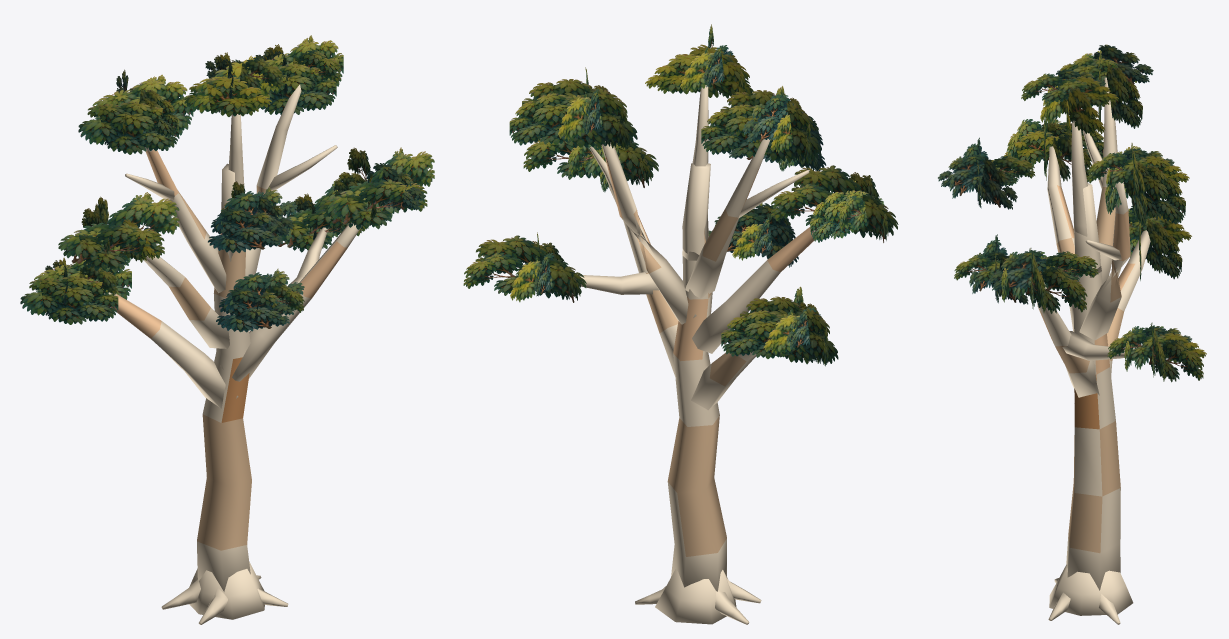
File: TREE_EUCALYPTUS_001_v007_LOD_MAP.glb
3 views of the same model, side by side, from view 1: azimuth 30°, elevation 25°; view 2: azimuth 150°, elevation 25°; view 3: azimuth 270°, elevation 25° (orthographic). The views are drawn at different scales.
Visible parts, largest first — view 1: TREE_EUCALYPTUS_001_MAP_AUTHORED_FOLIAGE_ISLANDS, TREE_EUCALYPTUS_001_MAP_MAIN_TRUNK, TREE_EUCALYPTUS_001_MAP_LOWER_LEFT_SWEEP, TREE_EUCALYPTUS_001_MAP_MID_RIGHT_SWEEP, TREE_EUCALYPTUS_001_MAP_UPPER_LEFT_FORK, TREE_EUCALYPTUS_001_MAP_MID_LEFT_ARCH, TREE_EUCALYPTUS_001_MAP_SCULPTED_ROOT_COLLAR, TREE_EUCALYPTUS_001_MAP_UPPER_RIGHT_ARCH, TREE_EUCALYPTUS_001_MAP_CENTRAL_CROWN_FORK, TREE_EUCALYPTUS_001_MAP_RIGHT_TOP_SUPPORT, TREE_EUCALYPTUS_001_MAP_LOWER_RIGHT_REACH; view 2: TREE_EUCALYPTUS_001_MAP_AUTHORED_FOLIAGE_ISLANDS, TREE_EUCALYPTUS_001_MAP_MAIN_TRUNK, TREE_EUCALYPTUS_001_MAP_MID_LEFT_ARCH, TREE_EUCALYPTUS_001_MAP_UPPER_RIGHT_ARCH, TREE_EUCALYPTUS_001_MAP_UPPER_LEFT_FORK, TREE_EUCALYPTUS_001_MAP_SCULPTED_ROOT_COLLAR, TREE_EUCALYPTUS_001_MAP_LOWER_LEFT_SWEEP, TREE_EUCALYPTUS_001_MAP_MID_RIGHT_SWEEP, TREE_EUCALYPTUS_001_MAP_LOWER_RIGHT_REACH, TREE_EUCALYPTUS_001_MAP_CENTRAL_CROWN_FORK, TREE_EUCALYPTUS_001_MAP_LEFT_TOP_SUPPORT; view 3: TREE_EUCALYPTUS_001_MAP_AUTHORED_FOLIAGE_ISLANDS, TREE_EUCALYPTUS_001_MAP_MAIN_TRUNK, TREE_EUCALYPTUS_001_MAP_UPPER_RIGHT_ARCH, TREE_EUCALYPTUS_001_MAP_SCULPTED_ROOT_COLLAR, TREE_EUCALYPTUS_001_MAP_MID_RIGHT_SWEEP, TREE_EUCALYPTUS_001_MAP_UPPER_LEFT_FORK, TREE_EUCALYPTUS_001_MAP_MID_LEFT_ARCH, TREE_EUCALYPTUS_001_MAP_LOWER_LEFT_SWEEP, TREE_EUCALYPTUS_001_MAP_CENTRAL_CROWN_FORK, TREE_EUCALYPTUS_001_MAP_LOWER_RIGHT_REACH.
Boxes of the visible parts, x1,y1,x2,y2 form: TREE_EUCALYPTUS_001_MAP_AUTHORED_FOLIAGE_ISLANDS: (20,35,434,332); TREE_EUCALYPTUS_001_MAP_MAIN_TRUNK: (197,163,251,591); TREE_EUCALYPTUS_001_MAP_LOWER_LEFT_SWEEP: (104,292,238,408); TREE_EUCALYPTUS_001_MAP_MID_RIGHT_SWEEP: (220,222,362,381); TREE_EUCALYPTUS_001_MAP_UPPER_LEFT_FORK: (145,147,226,293); TREE_EUCALYPTUS_001_MAP_MID_LEFT_ARCH: (144,256,229,348); TREE_EUCALYPTUS_001_MAP_SCULPTED_ROOT_COLLAR: (189,562,264,619); TREE_EUCALYPTUS_001_MAP_UPPER_RIGHT_ARCH: (245,84,301,276); TREE_EUCALYPTUS_001_MAP_CENTRAL_CROWN_FORK: (227,114,244,261); TREE_EUCALYPTUS_001_MAP_RIGHT_TOP_SUPPORT: (267,145,337,190); TREE_EUCALYPTUS_001_MAP_LOWER_RIGHT_REACH: (288,227,328,285); TREE_EUCALYPTUS_001_MAP_AUTHORED_FOLIAGE_ISLANDS: (463,24,898,366); TREE_EUCALYPTUS_001_MAP_MAIN_TRUNK: (667,163,726,591); TREE_EUCALYPTUS_001_MAP_MID_LEFT_ARCH: (692,227,815,353); TREE_EUCALYPTUS_001_MAP_UPPER_RIGHT_ARCH: (601,141,696,324); TREE_EUCALYPTUS_001_MAP_UPPER_LEFT_FORK: (685,138,770,298); TREE_EUCALYPTUS_001_MAP_SCULPTED_ROOT_COLLAR: (655,569,736,624); TREE_EUCALYPTUS_001_MAP_LOWER_LEFT_SWEEP: (691,351,756,410); TREE_EUCALYPTUS_001_MAP_MID_RIGHT_SWEEP: (608,185,707,379); TREE_EUCALYPTUS_001_MAP_LOWER_RIGHT_REACH: (577,272,658,294); TREE_EUCALYPTUS_001_MAP_CENTRAL_CROWN_FORK: (682,85,708,260); TREE_EUCALYPTUS_001_MAP_LEFT_TOP_SUPPORT: (738,170,809,218); TREE_EUCALYPTUS_001_MAP_AUTHORED_FOLIAGE_ISLANDS: (938,44,1206,382); TREE_EUCALYPTUS_001_MAP_MAIN_TRUNK: (1066,183,1120,590); TREE_EUCALYPTUS_001_MAP_UPPER_RIGHT_ARCH: (1079,182,1130,340); TREE_EUCALYPTUS_001_MAP_SCULPTED_ROOT_COLLAR: (1049,564,1133,615); TREE_EUCALYPTUS_001_MAP_MID_RIGHT_SWEEP: (1037,282,1099,397); TREE_EUCALYPTUS_001_MAP_UPPER_LEFT_FORK: (1096,77,1117,283); TREE_EUCALYPTUS_001_MAP_MID_LEFT_ARCH: (1047,146,1074,331); TREE_EUCALYPTUS_001_MAP_LOWER_LEFT_SWEEP: (1107,230,1150,376); TREE_EUCALYPTUS_001_MAP_CENTRAL_CROWN_FORK: (1071,121,1101,277); TREE_EUCALYPTUS_001_MAP_LOWER_RIGHT_REACH: (1062,331,1133,360).
Size of the model in its own units: 9.62 by 13.95 by 6.58.
Materials: 5 (1 with a texture image).
